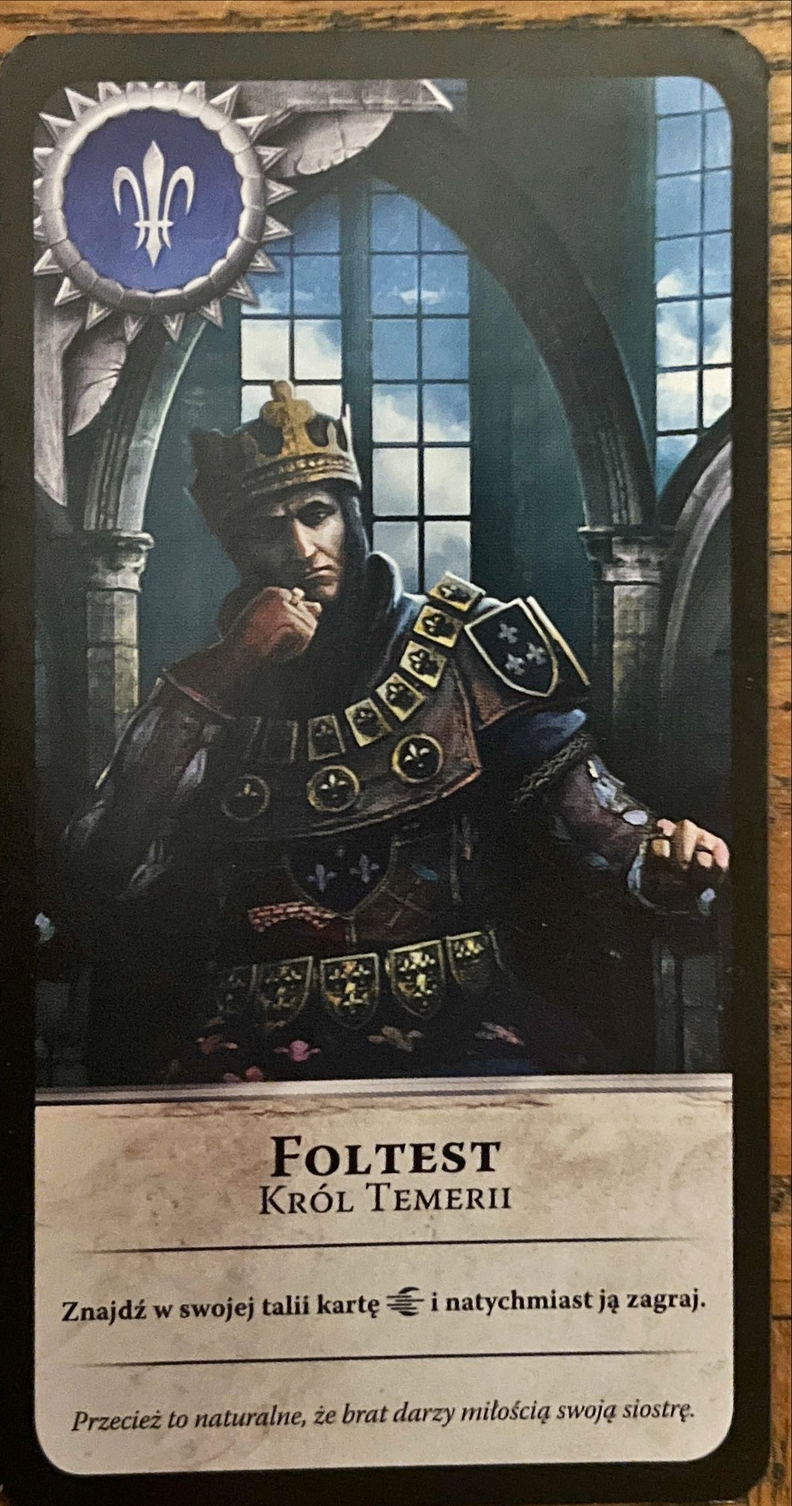foltest krol temerii: (1, 31, 772, 1502)
